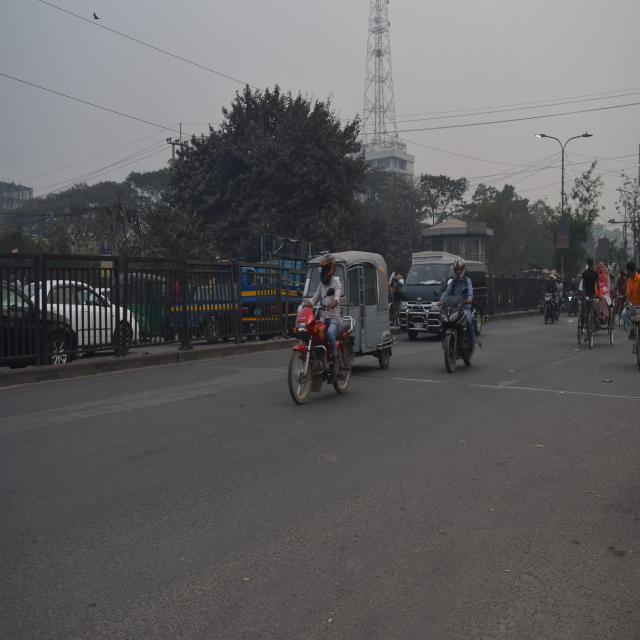car: (22, 271, 146, 360), (0, 270, 74, 376)
microbus: (397, 252, 493, 335)
motorbike: (274, 298, 360, 407), (428, 295, 488, 373), (537, 288, 566, 325)
pickup-van: (170, 254, 285, 351)
